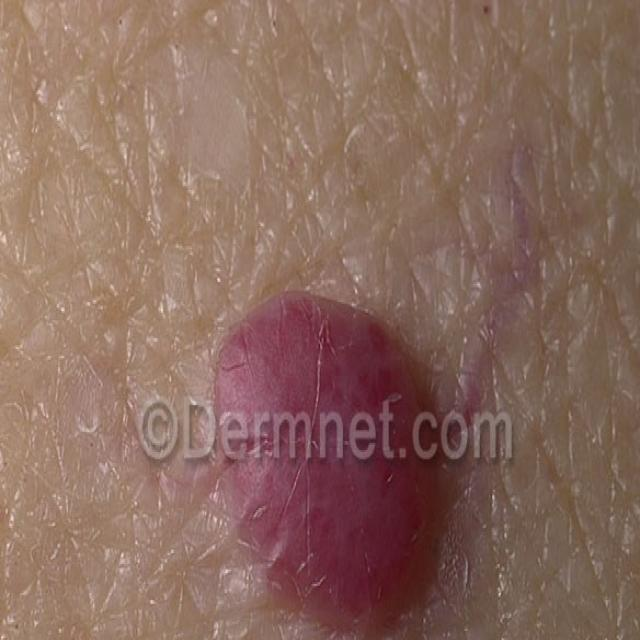Vascular Tumors: (187, 209, 555, 640)
